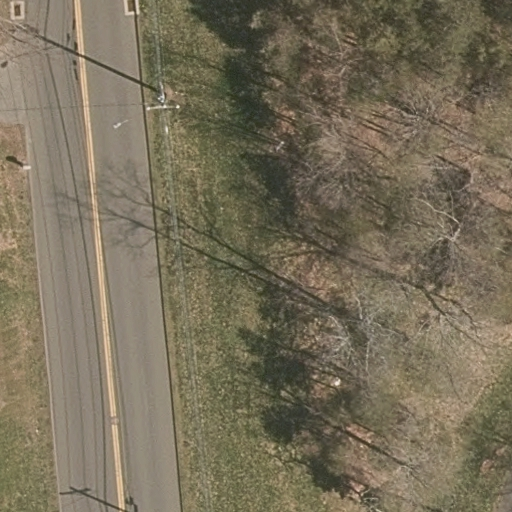DT: (145, 100, 180, 116)
